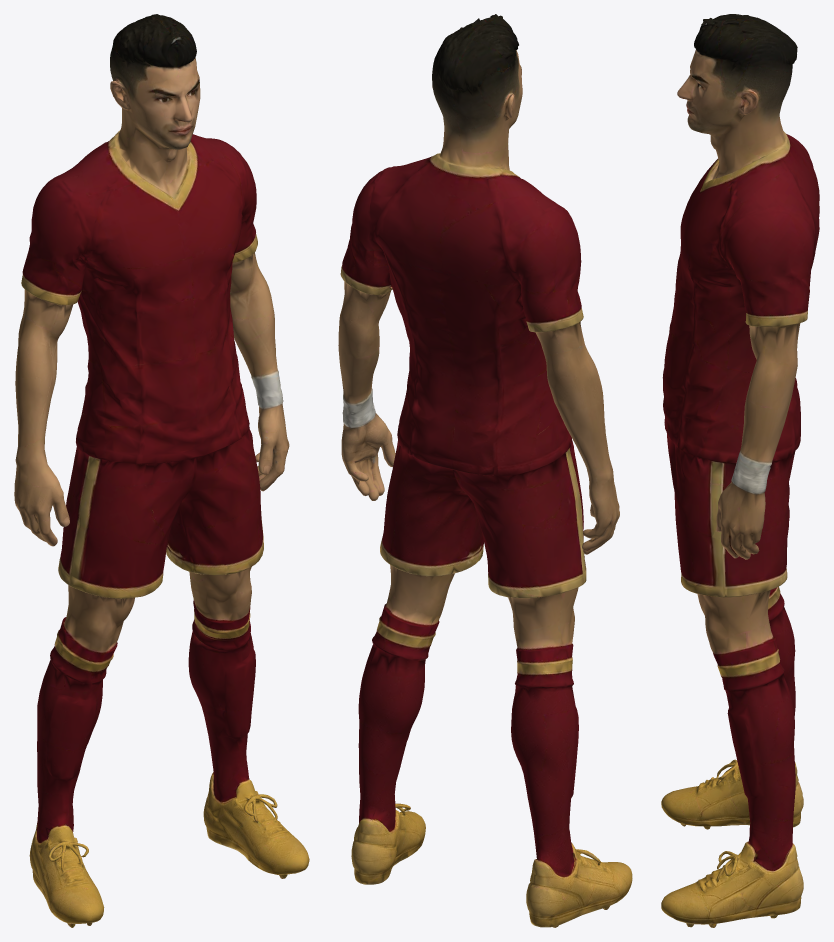
Rendered from king.glb.
3 renders of one model, left to right at view 1: azimuth 30°, elevation 25°; view 2: azimuth 150°, elevation 25°; view 3: azimuth 270°, elevation 25°, orthographic.
Parts seen in each view (by area): view 1: mesh_node; view 2: mesh_node; view 3: mesh_node.
Part boxes in pixels (x1,y1,x2,y2): mesh_node: (14, 14, 309, 927); mesh_node: (338, 14, 632, 927); mesh_node: (661, 14, 819, 927).
Size of the model in its own units: 0.6183 by 1.9 by 0.3189.
Materials: 1 (1 with a texture image).
